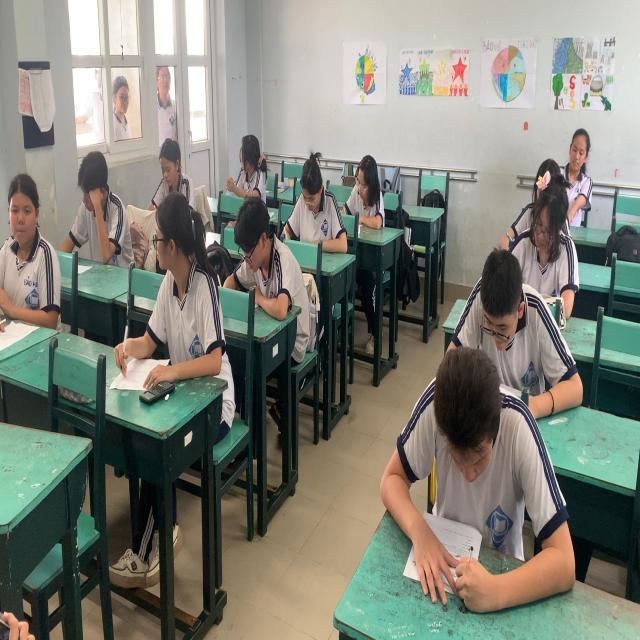cheating: (144, 188, 224, 382), (0, 164, 68, 337), (223, 130, 266, 206)
not_cheating: (383, 358, 571, 614), (458, 257, 570, 417), (226, 192, 300, 316), (528, 171, 578, 330), (66, 147, 130, 264), (283, 150, 346, 261), (554, 120, 594, 226), (340, 143, 387, 230), (146, 127, 190, 206)
